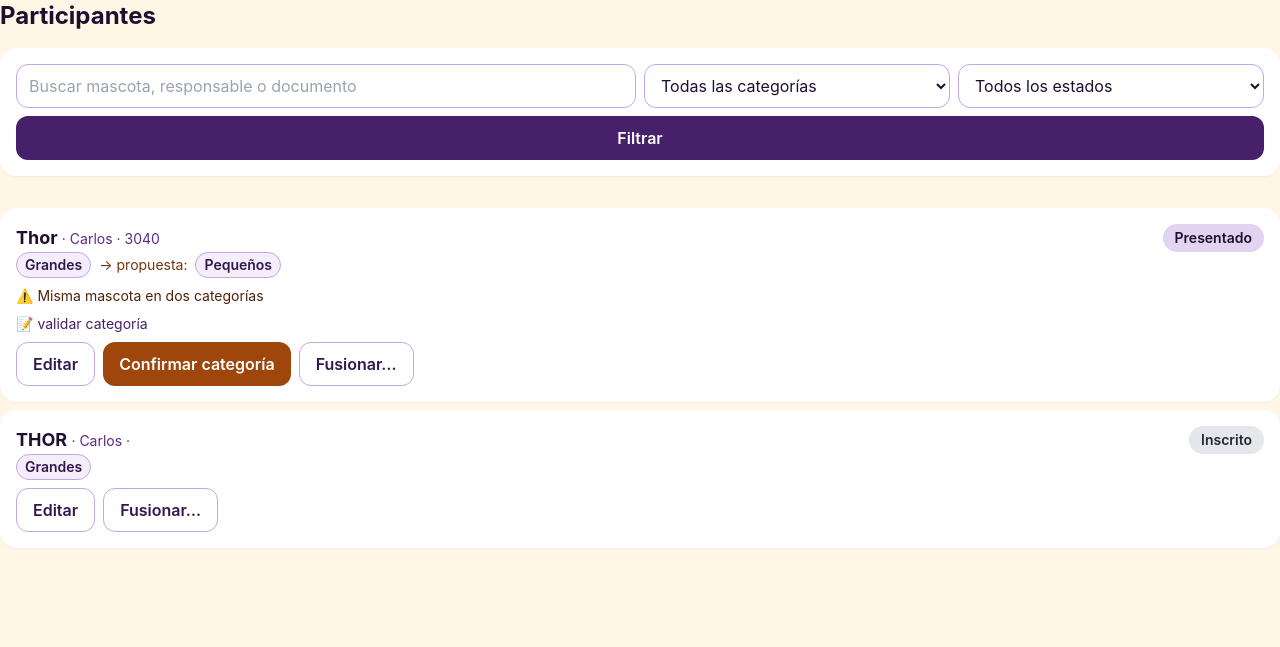
Test: un aviso previo se limpia cuando la siguiente acción falla
Click the button with test id "editar-t1". click: click(56, 364)
box: [16, 342, 95, 386]
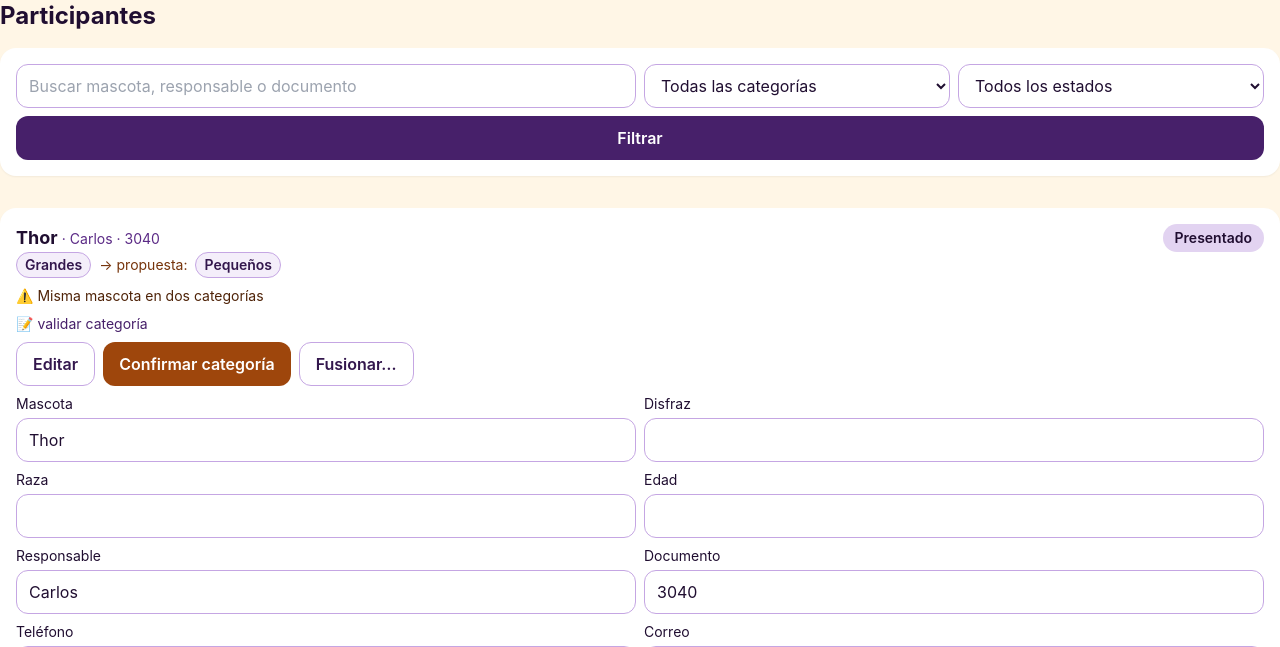
Replace the text in the field with test id "campo-responsable_documento" with "999". click: (954, 592)
box: [644, 570, 1264, 614]
(page scrolled)
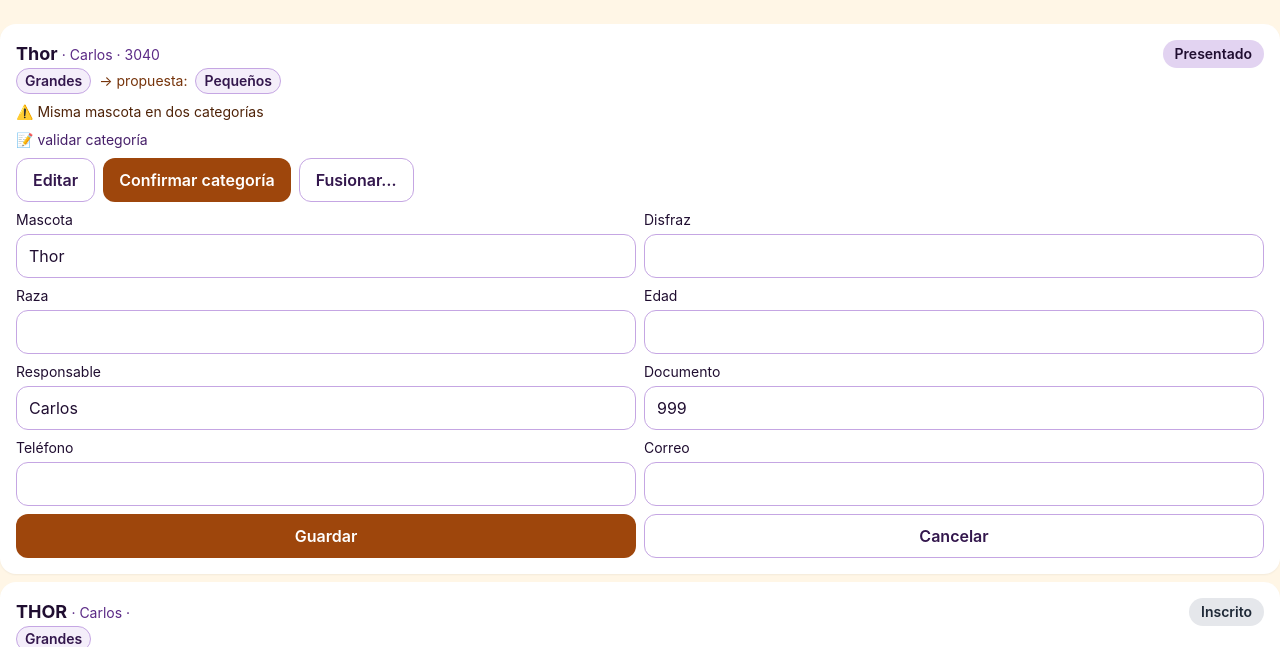
Submit the form with test id "guardar-edicion", box [16, 210, 1264, 558]
(page scrolled)
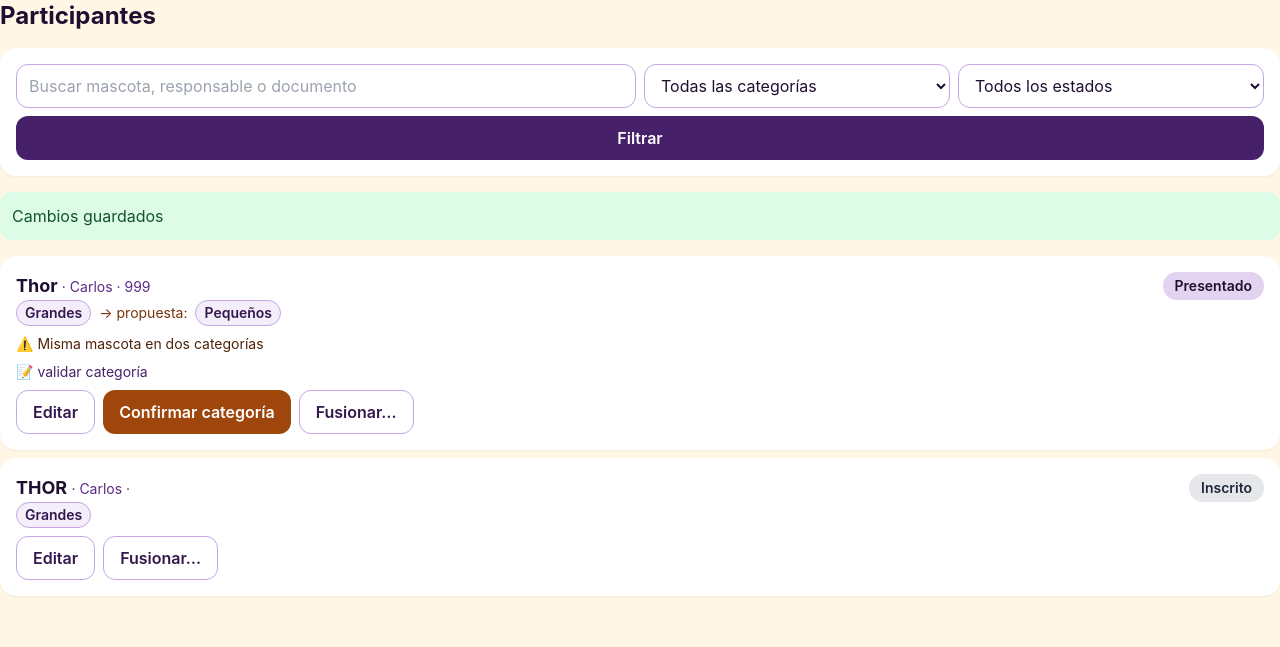
Expected: the text "Cambios guardados" is shown, [0, 192, 1279, 240]
Click the button with test id "fusionar-t1". click: click(356, 412)
box: [299, 390, 414, 434]
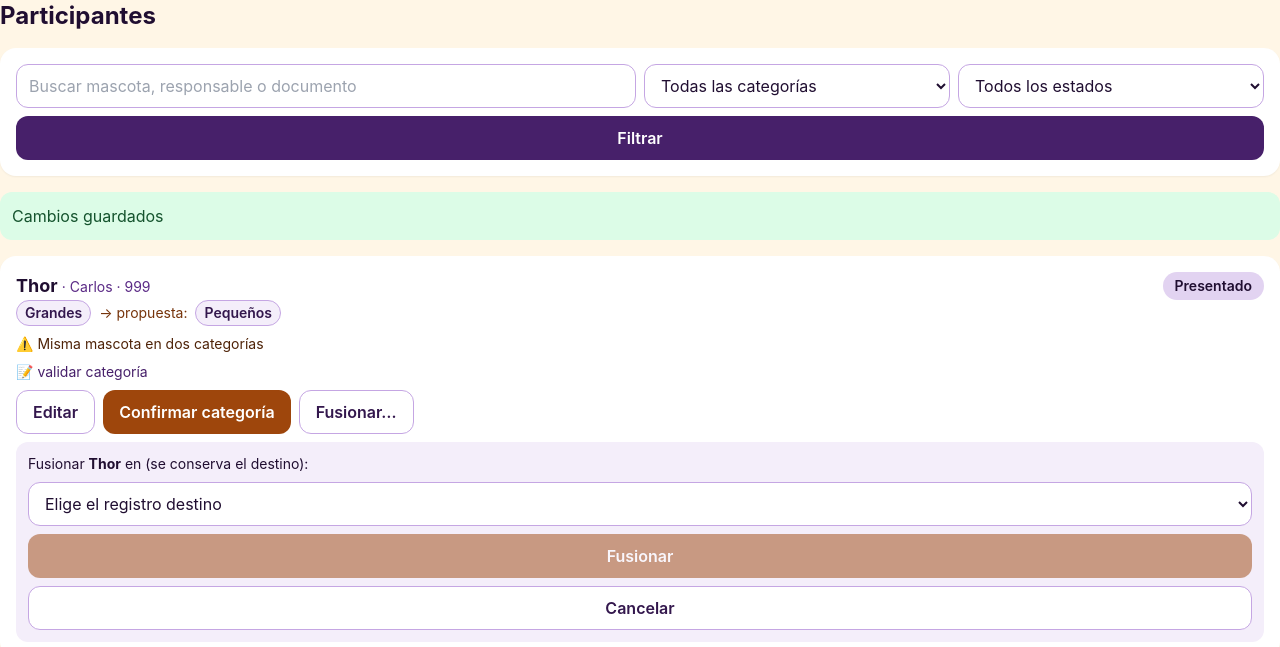
Select "THOR · Carlos · sin documento · Grandes" in the dropdown with test id "destino-fusion". click: (640, 504)
box: [28, 482, 1252, 526]
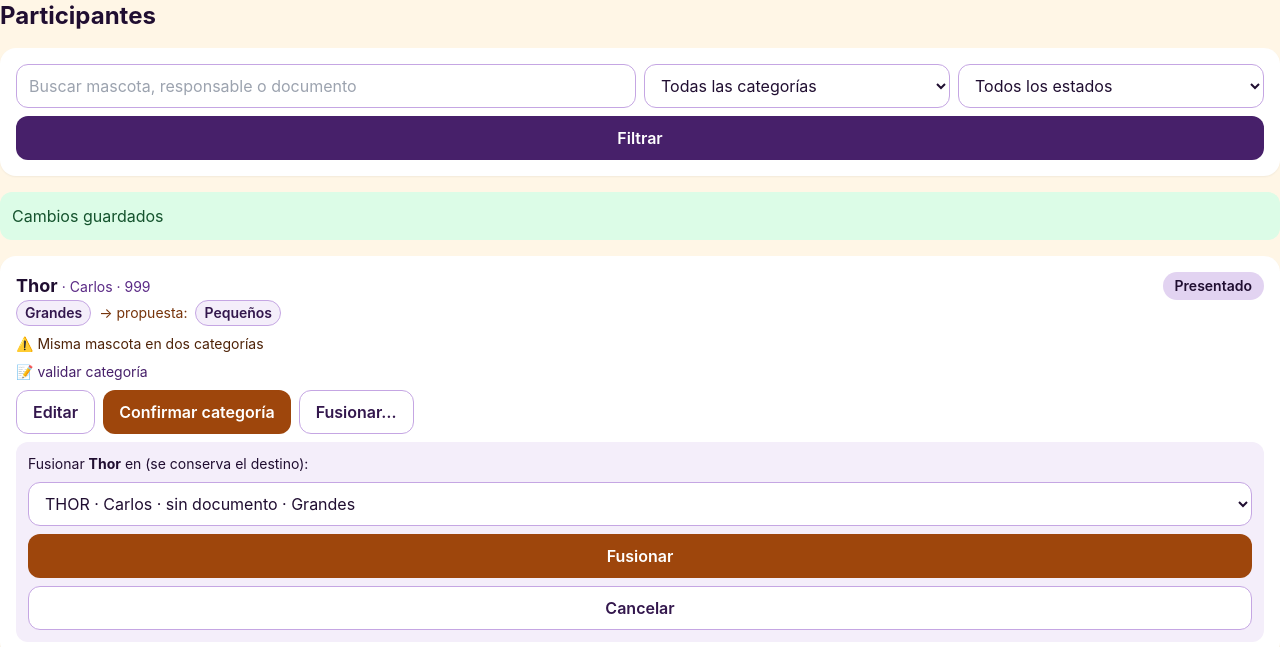
Click the button with test id "confirmar-fusion". click: click(640, 556)
box: [28, 534, 1252, 578]
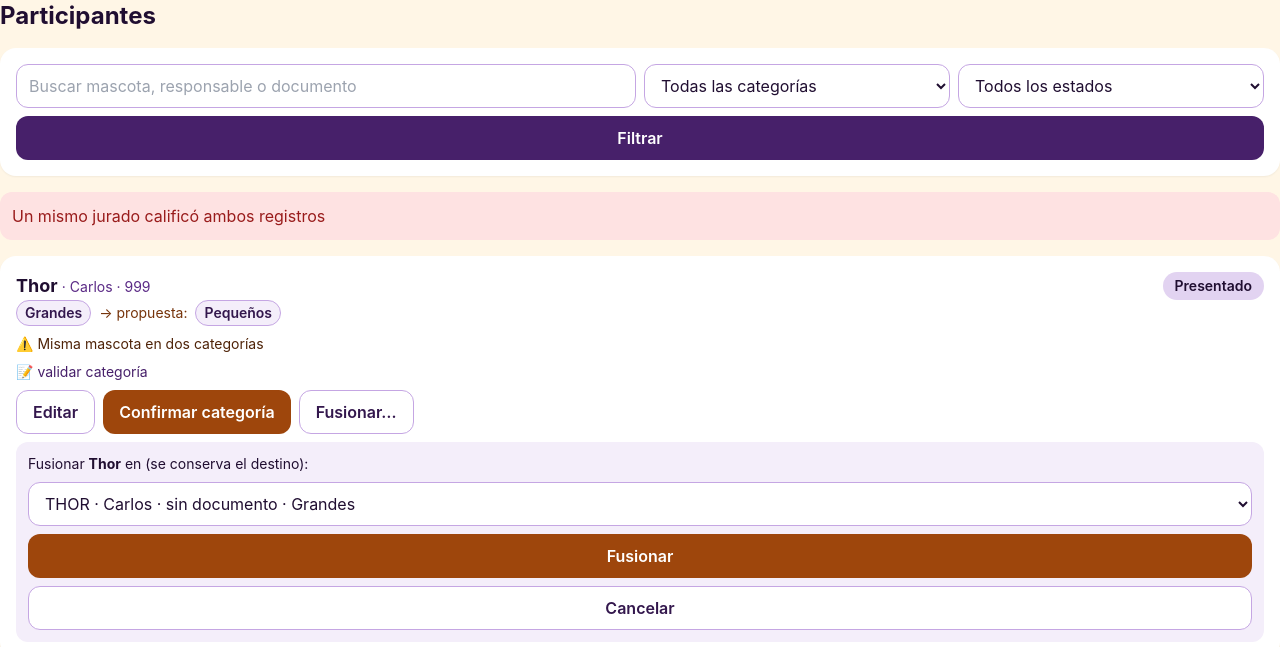
Expected: the text "Un mismo jurado calificó ambos registros" is shown, [0, 192, 1279, 240]
Expected: the text "Cambios guardados" is gone
